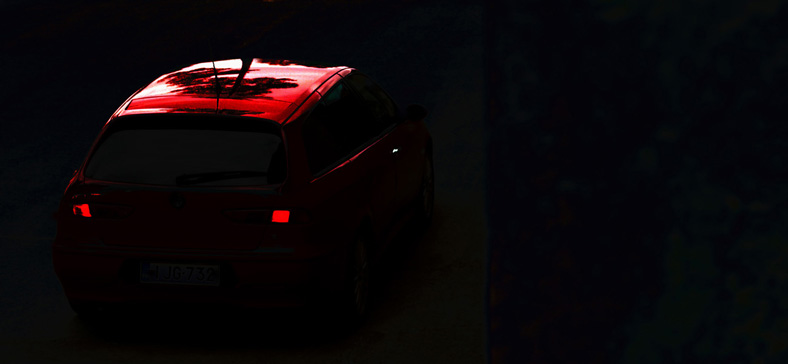car: (44, 54, 452, 356)
